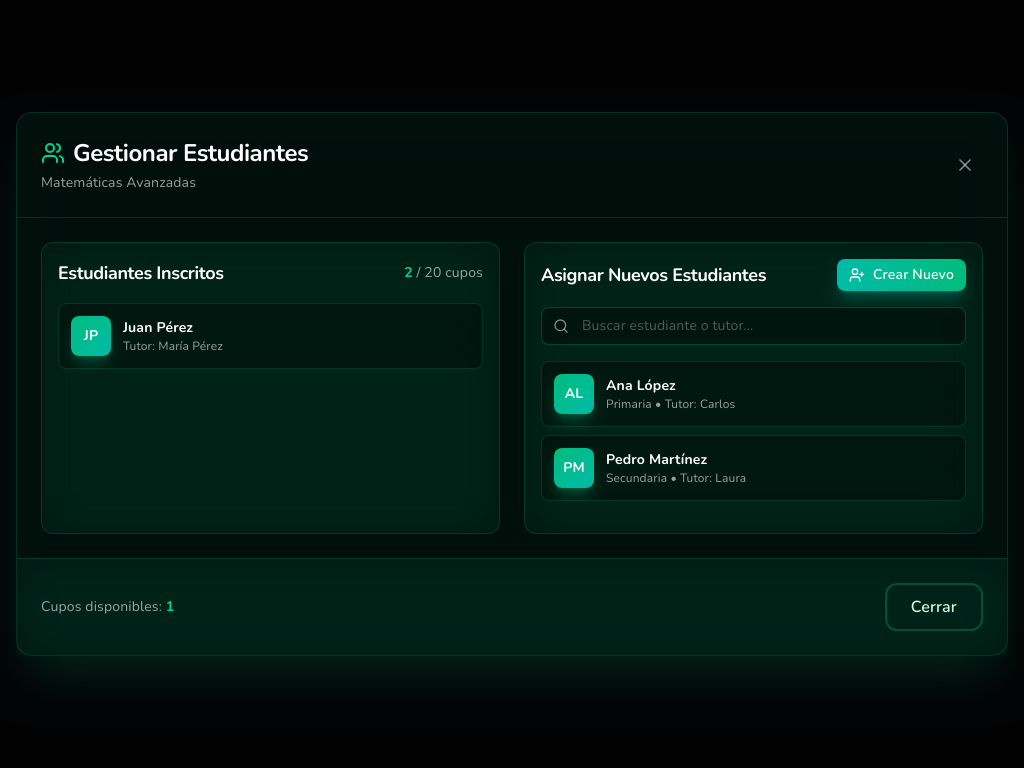
Test: GestionarEstudiantesModal › Asignar estudiantes › deshabilita botón de asignar si no hay suficientes cupos
// Seleccionar 2 estudiantes
Click the text "Ana López" at (641, 386), box 606,376 -> 676,395
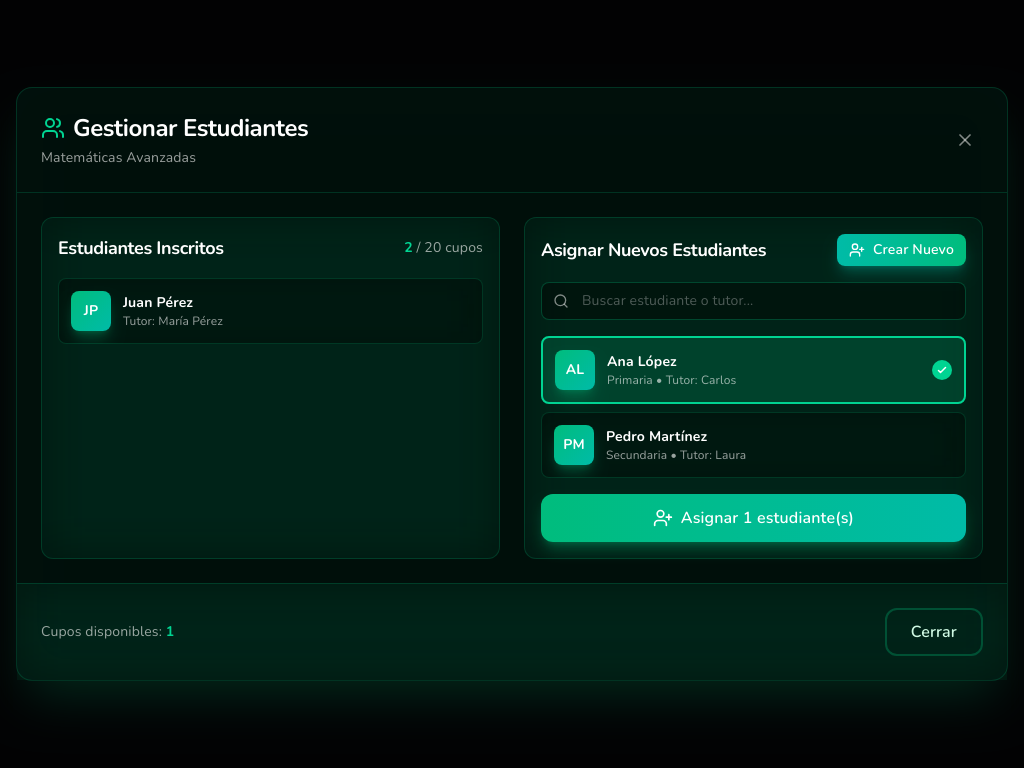
Click the text "Pedro Martínez" at (657, 436), box 606,427 -> 707,446
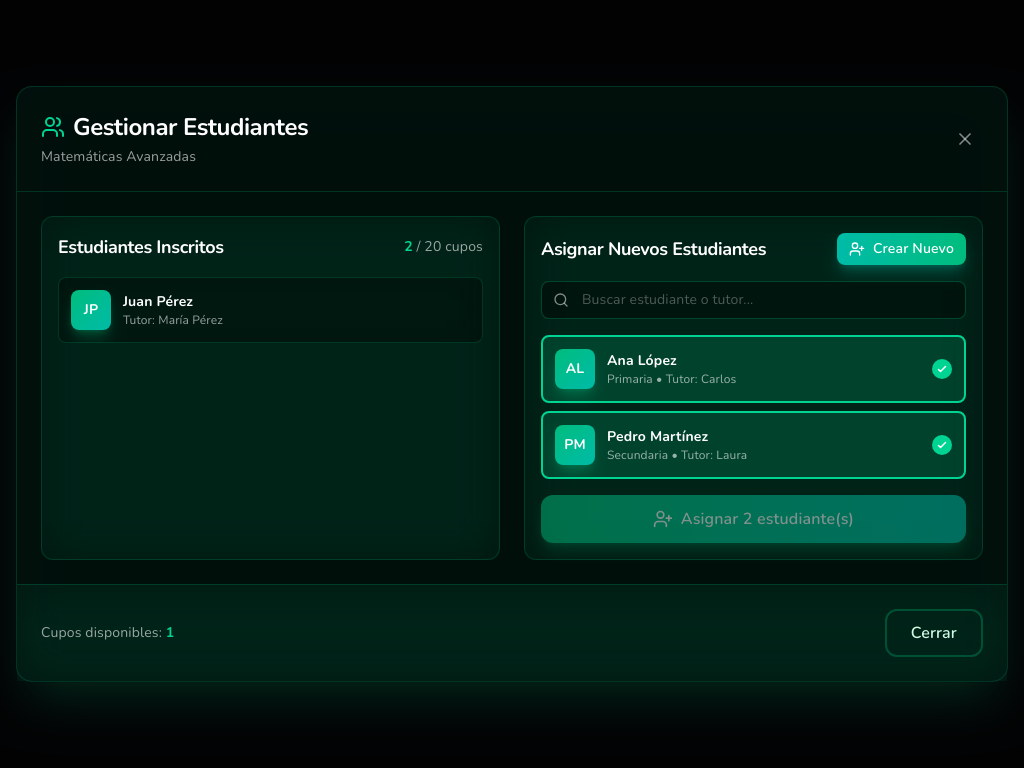
expect the button "Asignar 2 estudiante(s)" is disabled: met, box 541,495 -> 966,543
